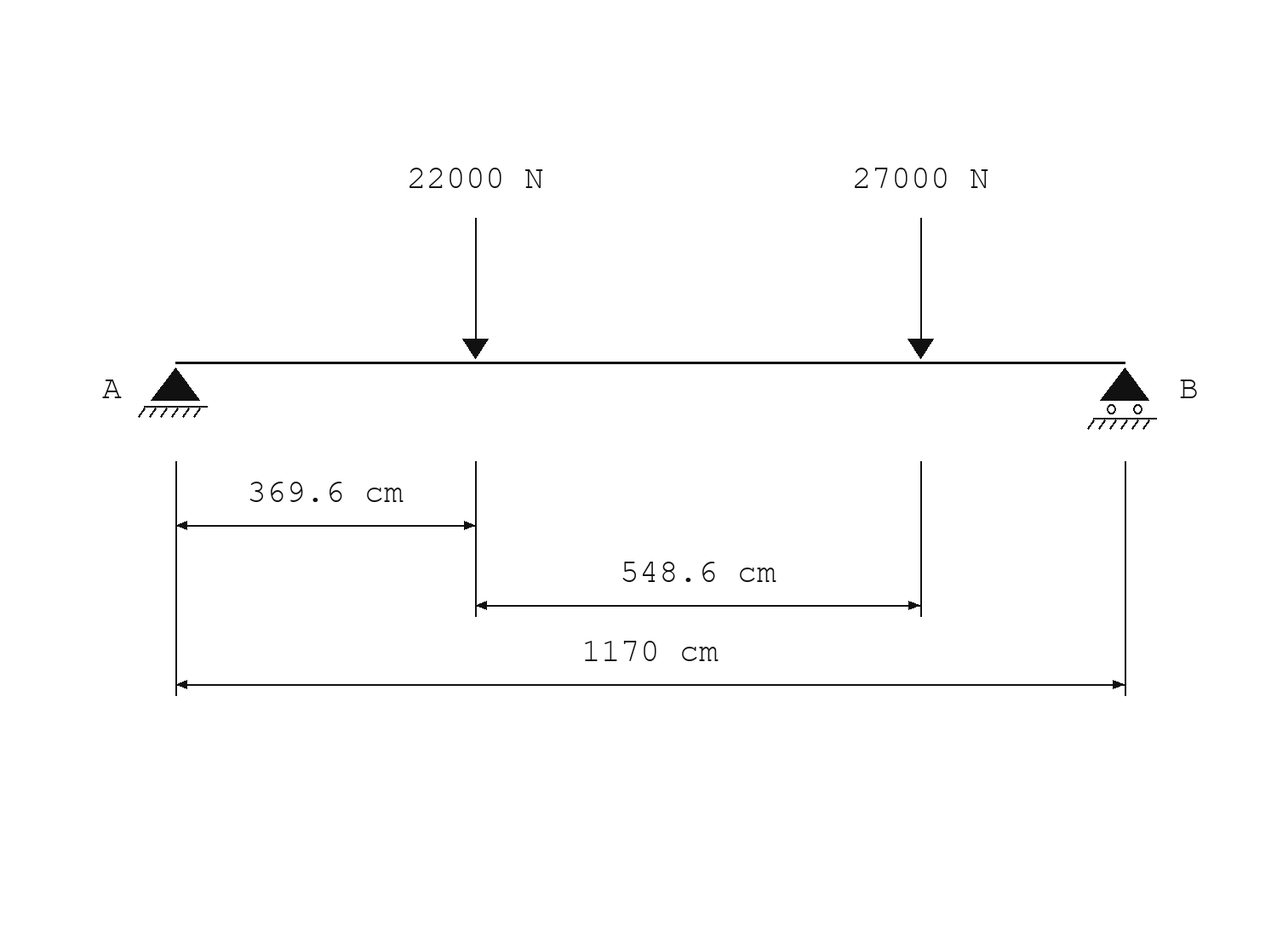pin_support: (138, 368, 208, 418)
point_load: (462, 218, 489, 359), (908, 218, 934, 359)
roller_support: (1087, 368, 1157, 430)
